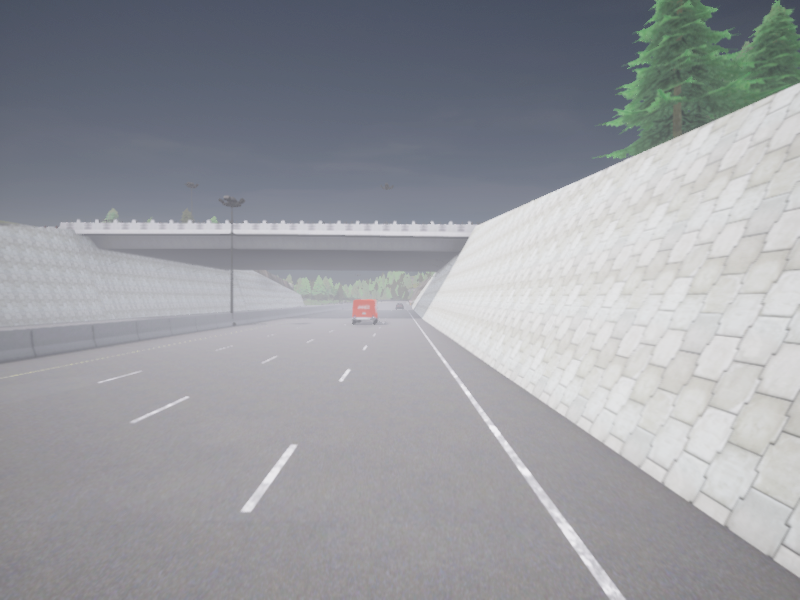vehicle: (352, 299, 378, 323), (396, 303, 402, 308)
